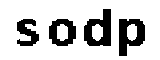d: (79, 6, 112, 54)
o: (48, 17, 77, 49)
p: (114, 18, 146, 60)
s: (9, 16, 39, 49)
